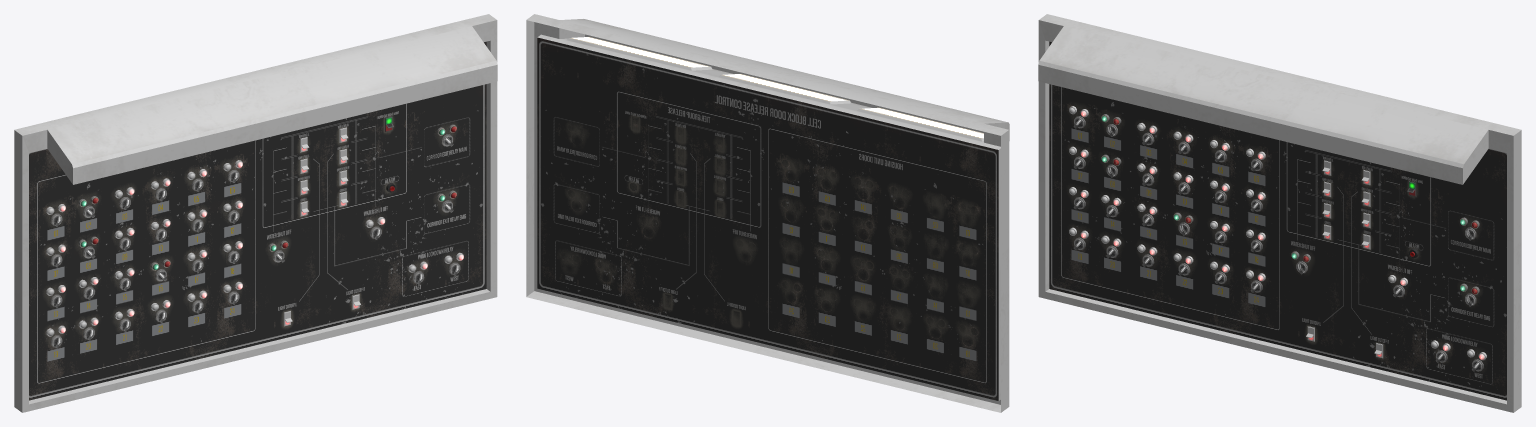
The model's file is SM_ControlPanel_01_A.fbx.
The picture shows the model from 3 angles, left to right: view 1: azimuth 30°, elevation 25°; view 2: azimuth 150°, elevation 25°; view 3: azimuth 330°, elevation 25°; orthographic projection.
Visible parts, largest first — view 1: SM_ControlPanel_01_A_LOD0; view 2: SM_ControlPanel_01_A_LOD0; view 3: SM_ControlPanel_01_A_LOD0.
Part boxes in pixels (<box>): SM_ControlPanel_01_A_LOD0: <box>14,14,497,412</box>; SM_ControlPanel_01_A_LOD0: <box>526,14,1009,412</box>; SM_ControlPanel_01_A_LOD0: <box>1038,14,1521,412</box>.
Bounding box in the file's own units: 214 × 26.43 × 119.
